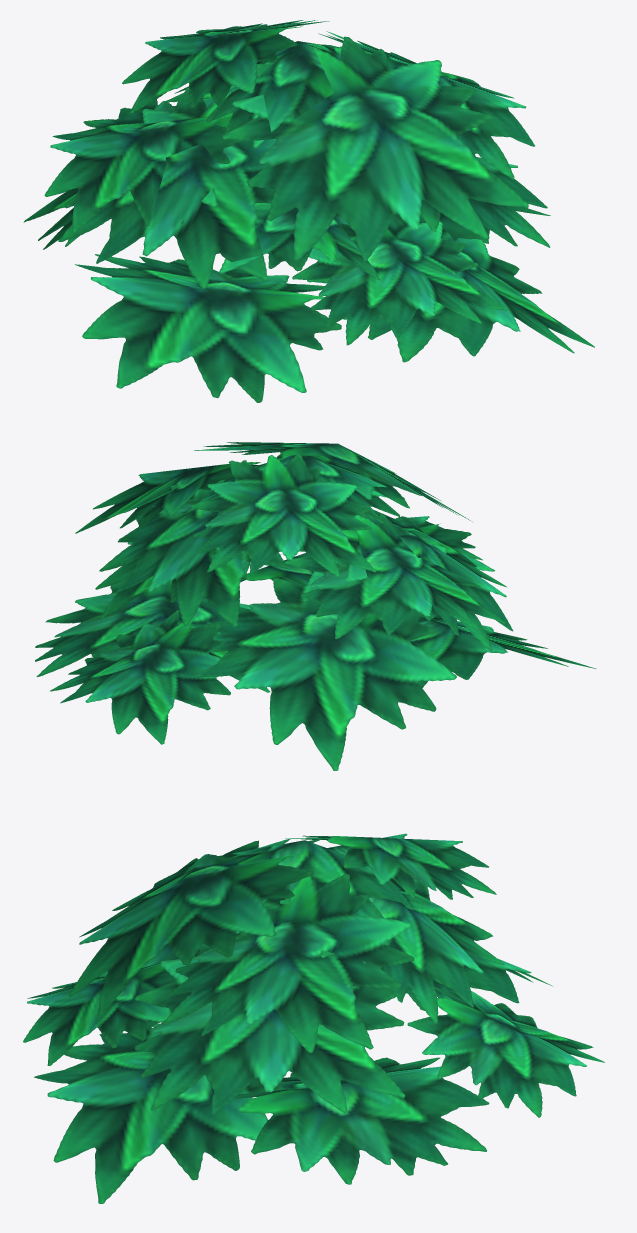
File: hua06.FBX
The picture shows the model from 3 angles, top to bottom: view 1: azimuth 30°, elevation 25°; view 2: azimuth 150°, elevation 25°; view 3: azimuth 270°, elevation 25°; orthographic projection. The views are drawn at different scales.
Parts seen in each view (by area): view 1: Bush_01_b; view 2: Bush_01_b; view 3: Bush_01_b.
Part boxes in pixels (bbox=[...]): Bush_01_b: bbox=[23, 20, 594, 402]; Bush_01_b: bbox=[35, 442, 595, 770]; Bush_01_b: bbox=[23, 833, 604, 1203].
Bounding box in the file's own units: 6.49 × 3.2 × 6.
